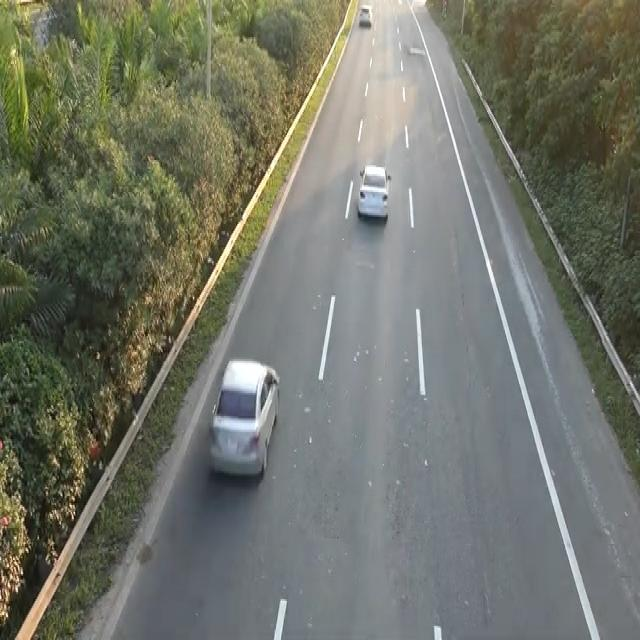bus: (206, 354, 281, 480), (355, 160, 391, 222)
